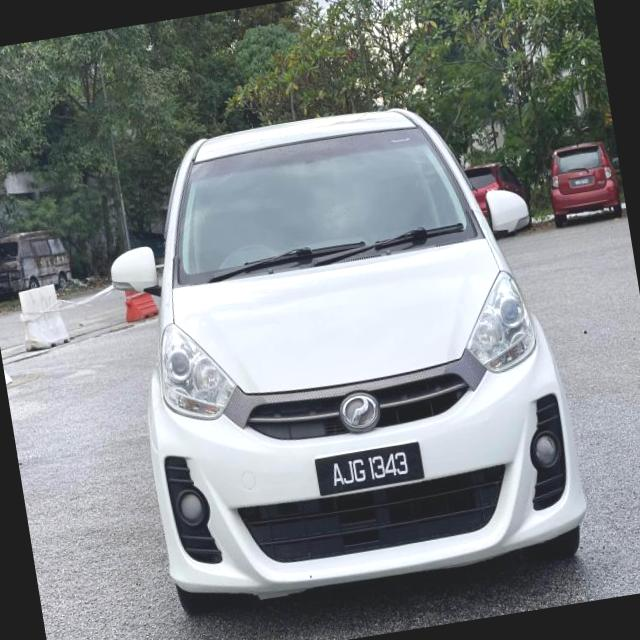PeroduaMyvi: (91, 83, 594, 622)
